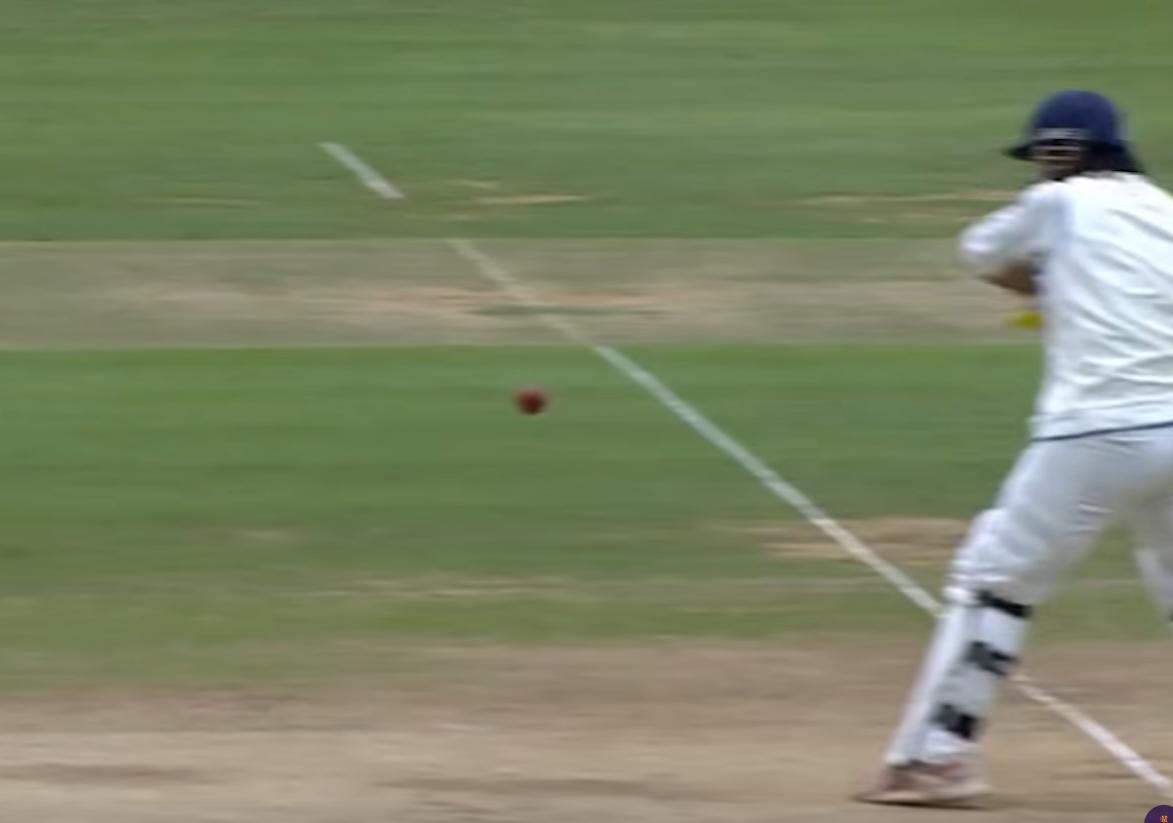Cricket-Ball: (509, 381, 554, 421)
